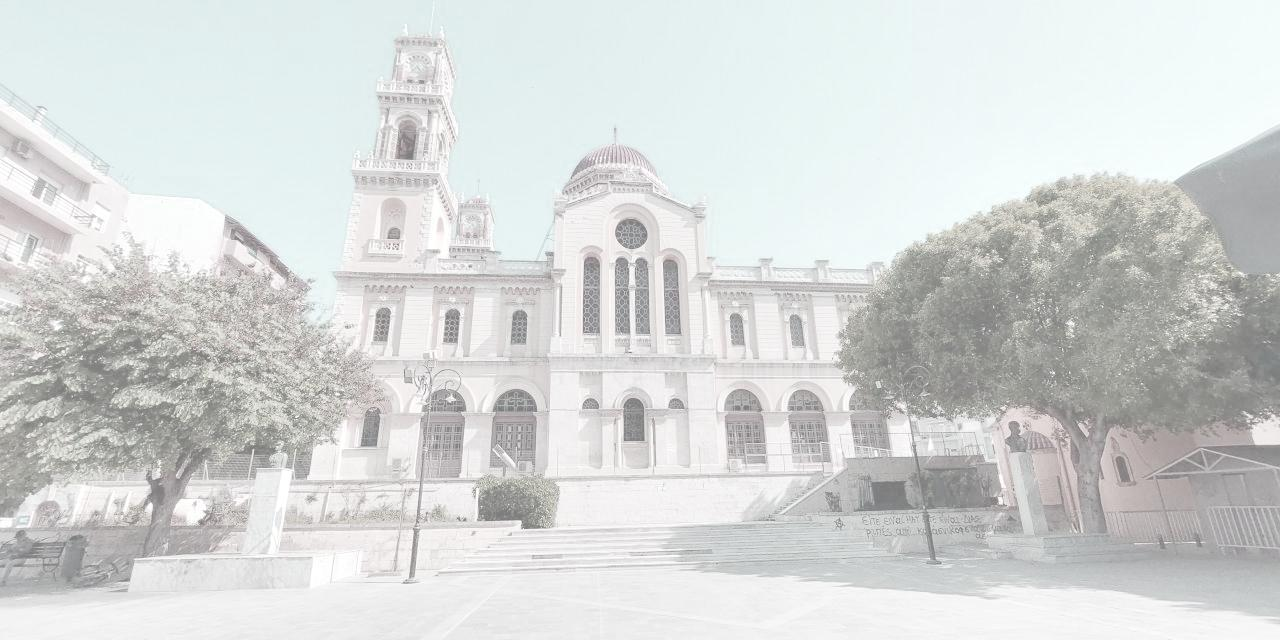Agios Minas: (311, 1, 916, 479)
